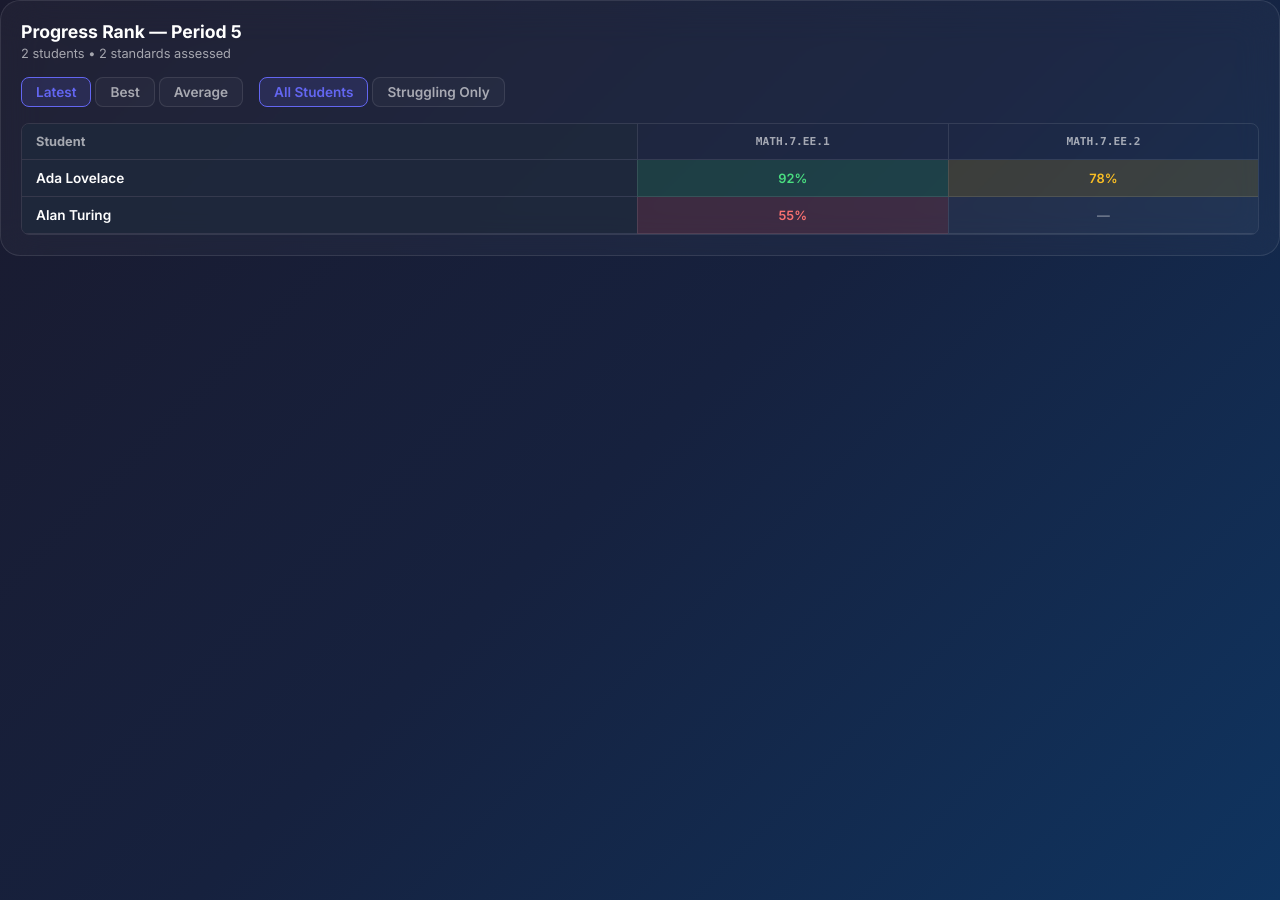
Scenario: ProgressRankGrid mounts with content from every extracted section › clicking a mastery cell opens the popover with contributing submissions
Expected: the text "Alan Turing" is shown, [22,196,637,234]
What coordinates should you click on to do the following:
click the button "55%"
I would click on:
 (793, 215)
Its box is [637,196,948,234].
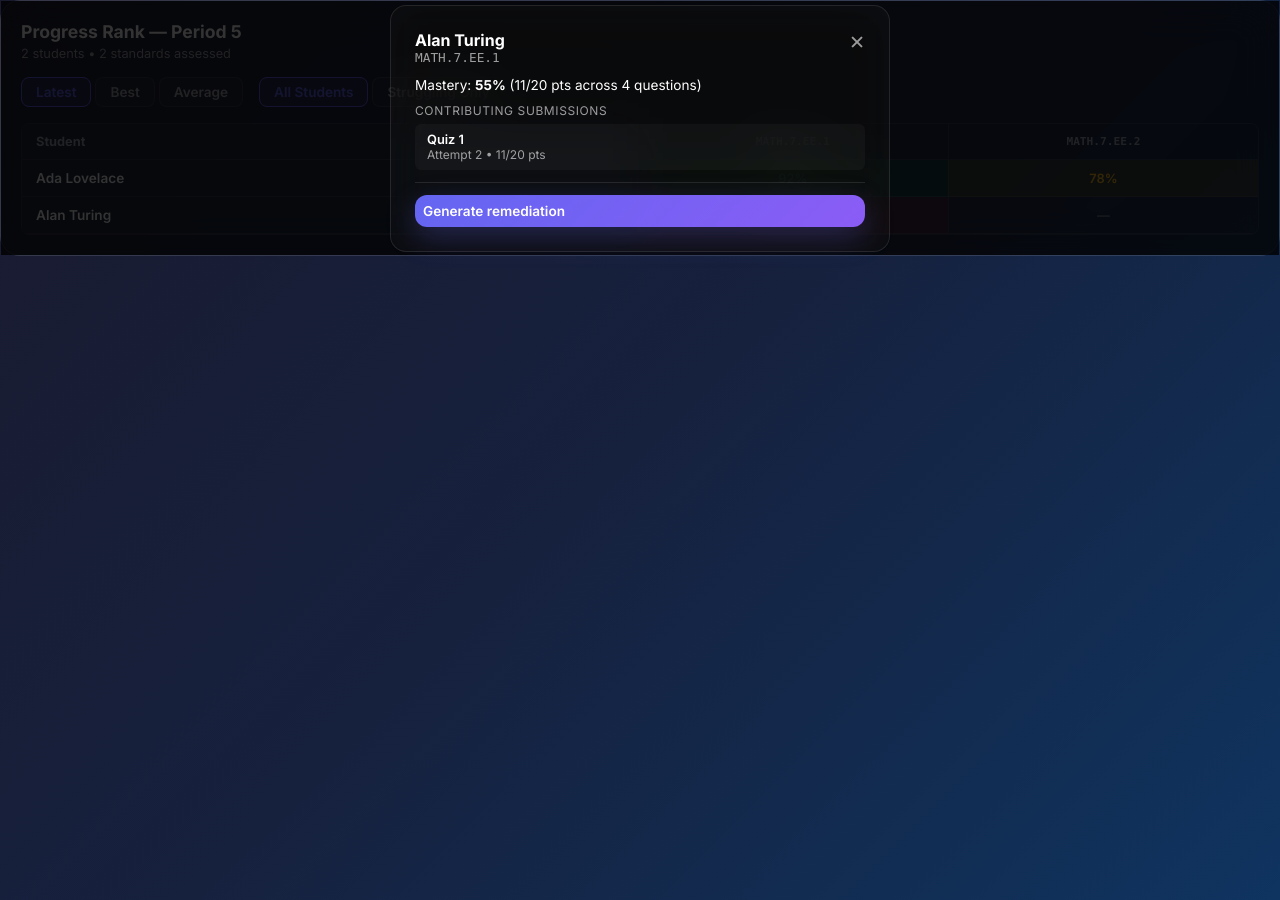
Expected: the text "Contributing submissions" is shown, [415,102,607,118]
Expected: the text "Mastery: 55% (11/20 pts across 4 questions)" is shown, [415,76,702,92]
Expected: the text "Quiz 1" is shown, [427,132,464,146]
